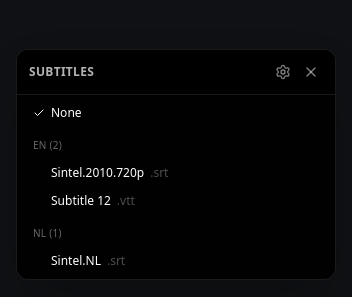
Scenario: SubtitlePicker search and selection › takes the message about an earlier pick away once None is picked
Expected: the text "en (2)" is shown, [33, 138, 62, 152]
Step 1. Click the button "Sintel.2010.720p .srt" → [98, 172], box [21, 159, 331, 187]
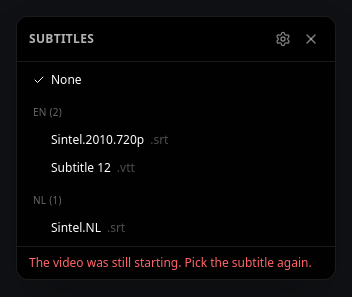
Result: the text "The video was still starting. Pick the subtitle again." is shown at [17, 246, 335, 279]
Step 2. Click the button "None" → [66, 80], box [21, 66, 331, 94]
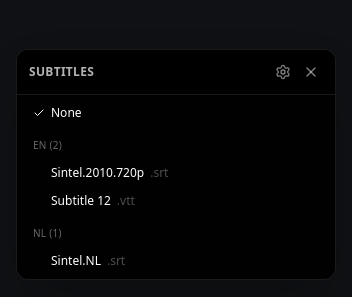
Result: the text "still starting" is gone
